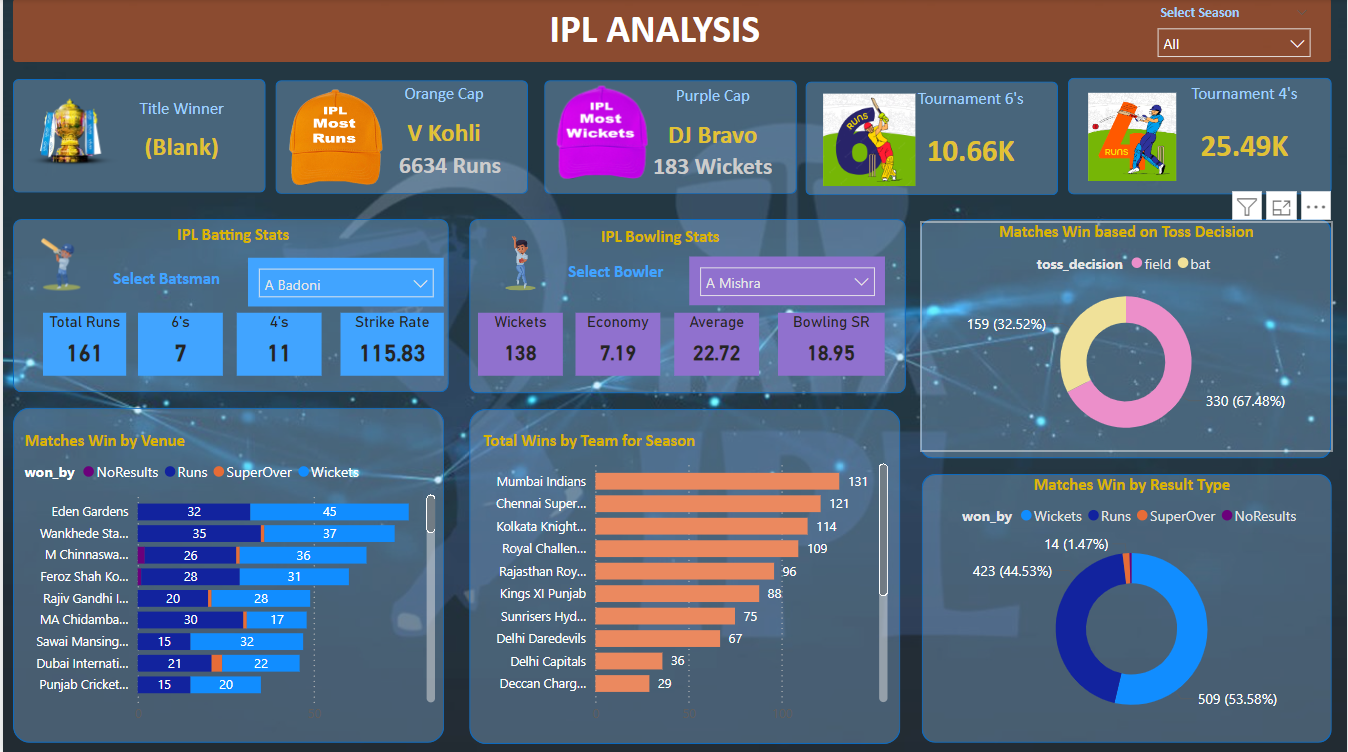

What the dashboard file says about the page in this screenshot:
{"tool":"powerbi","page":{"name":"IPL","canvas":[1280,720],"ordinal":0},"visuals":[{"type":"shape","box":[9.6,0,1255.6,60],"z":0},{"type":"textbox","box":[516,1.4,273.1,59],"z":1000},{"type":"slicer","fields":{"Values":["Calendar Table.Year"]},"box":[1089.5,0,166,60.4],"z":2000},{"type":"shape","box":[9.5,76.2,240.5,108.3],"z":3000},{"type":"card","title":"Title Winner","fields":{"Values":["ipl_matches_2008_2022.Title Winner"]},"box":[90.5,94,159.5,75],"z":4000},{"type":"shape","box":[259.5,77.4,240.5,108.3],"z":5000},{"type":"shape","box":[515.5,77.4,240.5,108.3],"z":6000},{"type":"shape","box":[764.3,78.6,240.5,108.3],"z":7000},{"type":"shape","box":[9.6,209.9,415,165],"z":8000},{"type":"shape","box":[1014.1,75.5,251.1,111.1],"z":9000},{"type":"card","title":"Orange Cap","fields":{"Values":["ipl_ball_by_ball_2008_2022.batter"]},"box":[340.3,79.6,159.2,75.5],"z":10000},{"type":"card","title":"Orange Cap","fields":{"Values":["ipl_ball_by_ball_2008_2022.Batter Runs"]},"box":[352.7,130.4,146.8,54.9],"z":11000},{"type":"card","title":"Purple Cap","fields":{"Values":["ipl_ball_by_ball_2008_2022.bowler"]},"box":[596.9,82.3,159.2,75.5],"z":12000},{"type":"card","title":"Purple Cap","fields":{"Values":["ipl_ball_by_ball_2008_2022.Bowler Wickets"]},"box":[596.9,134.5,159.2,49.4],"z":13000},{"type":"card","title":"Tournament 6''s","fields":{"Values":["ipl_ball_by_ball_2008_2022.batsman_run"]},"box":[839.8,85.1,164.7,100.2],"z":14000},{"type":"card","title":"Tournament 4''s","fields":{"Values":["ipl_ball_by_ball_2008_2022.batsman_run"]},"box":[1100.5,79.6,164.7,100.2],"z":15000},{"type":"shape","box":[444.6,209.9,415.8,166],"z":16000},{"type":"slicer","fields":{"Values":["ipl_ball_by_ball_2008_2022.batter"]},"box":[233.3,247,186.6,46.7],"z":17000},{"type":"card","title":"Total Runs","fields":{"Values":["ipl_ball_by_ball_2008_2022.batsman_run"]},"box":[38.4,299.1,79.6,60.4],"z":18000},{"type":"card","title":"6''s","fields":{"Values":["ipl_ball_by_ball_2008_2022.batsman_run"]},"box":[129,299.1,81,60.4],"z":19000},{"type":"card","title":"4''s","fields":{"Values":["ipl_ball_by_ball_2008_2022.batsman_run"]},"box":[222.3,299.1,81,60.4],"z":20000},{"type":"card","title":"Strike Rate","fields":{"Values":["ipl_ball_by_ball_2008_2022.Strike Rate for Batsman"]},"box":[321.1,299.1,98.8,60.4],"z":21000},{"type":"textbox","box":[100.2,251.1,127.6,42.5],"z":22000},{"type":"textbox","box":[160.5,209.9,127.6,42.5],"z":23000},{"type":"slicer","fields":{"Values":["ipl_ball_by_ball_2008_2022.bowler"]},"box":[653.2,245.6,186.6,46.7],"z":24000},{"type":"textbox","box":[533.8,245.6,127.6,42.5],"z":25000},{"type":"card","title":"Wickets","fields":{"Values":["ipl_ball_by_ball_2008_2022.iswicket_delivery"]},"box":[452.8,299.1,81,60.4],"z":26000},{"type":"card","title":"Economy","fields":{"Values":["ipl_ball_by_ball_2008_2022.Economy"]},"box":[544.8,299.1,81,60.4],"z":27000},{"type":"card","title":"Average","fields":{"Values":["ipl_ball_by_ball_2008_2022.Average by Bowler"]},"box":[639.5,299.1,81,60.4],"z":28000},{"type":"card","title":"Bowling SR","fields":{"Values":["ipl_ball_by_ball_2008_2022.Bowling SR"]},"box":[738.3,299.1,101.5,60.4],"z":29000},{"type":"textbox","box":[564.3,211.9,160.7,41.7],"z":30000},{"type":"shape","box":[874.1,209.9,391.1,228],"z":31000},{"type":"donutChart","title":"Matches Win based on Toss Decision","fields":{"Y":["ipl_matches_2008_2022.Matches won on toss decision"],"Category":["ipl_matches_2008_2022.toss_decision"]},"box":[873.8,211.9,391.7,219],"z":32000},{"type":"shape","box":[875,452.4,390.5,256],"z":33000},{"type":"donutChart","title":"Matches Win by Result Type","fields":{"Y":["ipl_matches_2008_2022.id"],"Category":["ipl_matches_2008_2022.won_by"]},"box":[884.5,452.4,381,246.4],"z":34000},{"type":"shape","box":[9.5,389.3,410.7,319],"z":35000},{"type":"barChart","title":"Matches Win by Venue","fields":{"Category":["ipl_matches_2008_2022.venue"],"Y":["ipl_matches_2008_2022.id"],"Series":["ipl_matches_2008_2022.won_by"]},"box":[15.5,410.7,401.2,288.1],"z":35001},{"type":"shape","box":[444,390.5,410.7,319],"z":35002},{"type":"barChart","title":"Total Wins by Team for Season","fields":{"Category":["ipl_matches_2008_2022.winning_team"],"Y":["ipl_matches_2008_2022.winning_team"]},"box":[452.4,410.7,395.2,288.1],"z":35003},{"type":"image","box":[15.5,77.4,101.2,101.2],"z":35004},{"type":"image","box":[263.1,78.6,109.5,107.1],"z":35005},{"type":"image","box":[515.5,75,110.7,104.8],"z":35006},{"type":"image","box":[776.2,84.5,97.6,98.8],"z":35007},{"type":"image","box":[1026.2,84.5,97.6,94],"z":35008},{"type":"image","box":[10.7,208.3,89.3,89.3],"z":35009},{"type":"image","box":[446.4,204.8,92.9,92.9],"z":35010}]}

Visuals, with their boxes in screenshot pixels (x1, y1, x2, y2), scaled from the page's 1280x720 canvas onto the 1348x752 screenshot:
shape: x1=10, y1=0, x2=1332, y2=63
textbox: x1=543, y1=1, x2=831, y2=63
slicer - Calendar Table.Year: x1=1147, y1=0, x2=1322, y2=63
shape: x1=10, y1=80, x2=263, y2=193
"Title Winner" card: x1=95, y1=98, x2=263, y2=177
shape: x1=273, y1=81, x2=527, y2=194
shape: x1=543, y1=81, x2=796, y2=194
shape: x1=805, y1=82, x2=1058, y2=195
shape: x1=10, y1=219, x2=447, y2=392
shape: x1=1068, y1=79, x2=1332, y2=195
"Orange Cap" card: x1=358, y1=83, x2=526, y2=162
"Orange Cap" card: x1=371, y1=136, x2=526, y2=194
"Purple Cap" card: x1=629, y1=86, x2=796, y2=165
"Purple Cap" card: x1=629, y1=140, x2=796, y2=192
"Tournament 6''s" card: x1=884, y1=89, x2=1058, y2=194
"Tournament 4''s" card: x1=1159, y1=83, x2=1332, y2=188
shape: x1=468, y1=219, x2=906, y2=393
slicer - ipl_ball_by_ball_2008_2022.batter: x1=246, y1=258, x2=442, y2=307
"Total Runs" card: x1=40, y1=312, x2=124, y2=375
"6''s" card: x1=136, y1=312, x2=221, y2=375
"4''s" card: x1=234, y1=312, x2=319, y2=375
"Strike Rate" card: x1=338, y1=312, x2=442, y2=375
textbox: x1=106, y1=262, x2=240, y2=307
textbox: x1=169, y1=219, x2=303, y2=264
slicer - ipl_ball_by_ball_2008_2022.bowler: x1=688, y1=257, x2=884, y2=305
textbox: x1=562, y1=257, x2=697, y2=301
"Wickets" card: x1=477, y1=312, x2=562, y2=375
"Economy" card: x1=574, y1=312, x2=659, y2=375
"Average" card: x1=673, y1=312, x2=759, y2=375
"Bowling SR" card: x1=778, y1=312, x2=884, y2=375
textbox: x1=594, y1=221, x2=764, y2=265
shape: x1=921, y1=219, x2=1332, y2=457
"Matches Win based on Toss Decision" donutChart: x1=920, y1=221, x2=1333, y2=450
shape: x1=921, y1=473, x2=1333, y2=740
"Matches Win by Result Type" donutChart: x1=931, y1=473, x2=1333, y2=730
shape: x1=10, y1=407, x2=443, y2=740
"Matches Win by Venue" barChart: x1=16, y1=429, x2=439, y2=730
shape: x1=468, y1=408, x2=900, y2=741
"Total Wins by Team for Season" barChart: x1=476, y1=429, x2=893, y2=730
image: x1=16, y1=81, x2=123, y2=187
image: x1=277, y1=82, x2=392, y2=194
image: x1=543, y1=78, x2=659, y2=188
image: x1=817, y1=88, x2=920, y2=191
image: x1=1081, y1=88, x2=1184, y2=186
image: x1=11, y1=218, x2=105, y2=311
image: x1=470, y1=214, x2=568, y2=311
